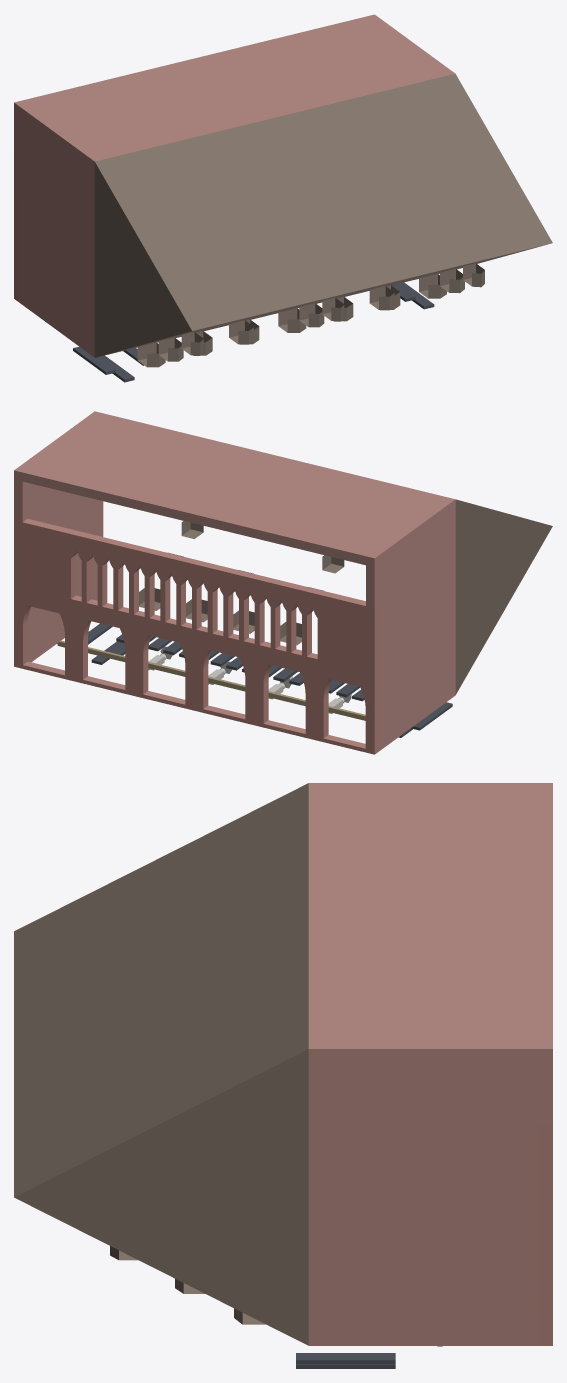
The model's file is eval_L2_statuen.glb.
The picture shows the model from 3 angles, top to bottom: view 1: azimuth 30°, elevation 25°; view 2: azimuth 150°, elevation 25°; view 3: azimuth 270°, elevation 25°; orthographic projection. The views are drawn at different scales.
Parts seen in each view (by area): view 1: dach, waende, gauben, fenster, fassade; view 2: waende, fassade, dach, fenster, gauben, galerie, statuen; view 3: waende, dach, fassade, fenster.
Boxes of the visible parts, <box> form: dach: <box>94,73,552,357</box>; waende: <box>14,14,454,357</box>; gauben: <box>137,263,484,367</box>; fenster: <box>73,282,434,382</box>; fassade: <box>14,152,18,301</box>; waende: <box>14,411,455,753</box>; fassade: <box>14,518,379,754</box>; dach: <box>455,499,552,694</box>; fenster: <box>88,623,452,737</box>; gauben: <box>139,521,344,645</box>; galerie: <box>57,640,365,720</box>; statuen: <box>148,646,351,713</box>; waende: <box>308,783,552,1345</box>; dach: <box>14,783,308,1345</box>; fassade: <box>538,1124,552,1345</box>; fenster: <box>296,1353,395,1368</box>.
Size of the model in its own units: 25 by 14.84 by 21.4.
